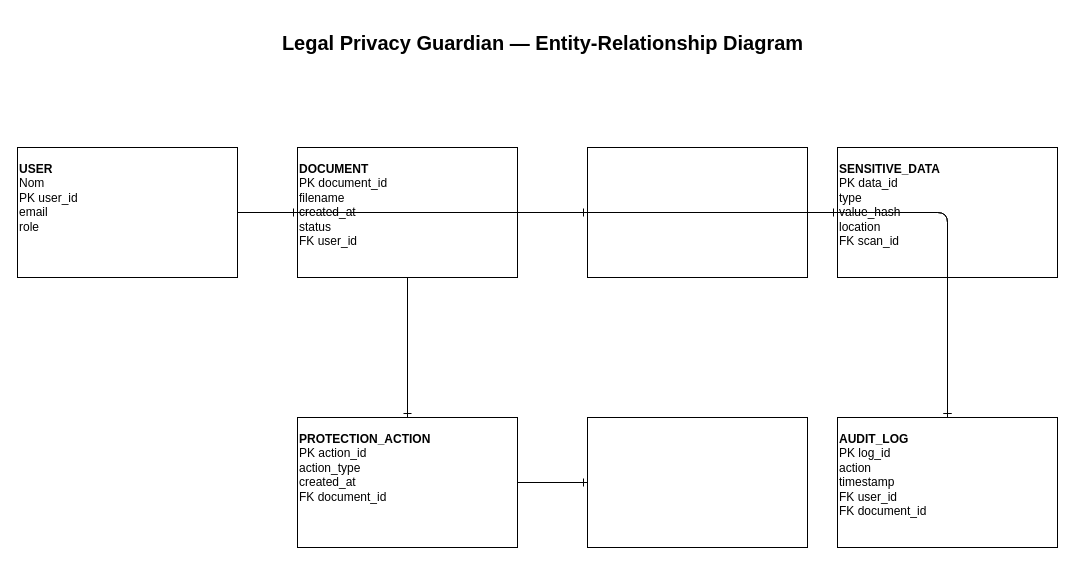
The diagram is 1075 pixels wide and 565 high, and some of its shapes have lost their labels. Each missing label, with the centre of its shape:
"PRIVACY_RULE PK rule_id name category active" belongs at pixel 697 482.
"SCAN PK scan_id scan_date risk_level FK document_id" belongs at pixel 697 212.
